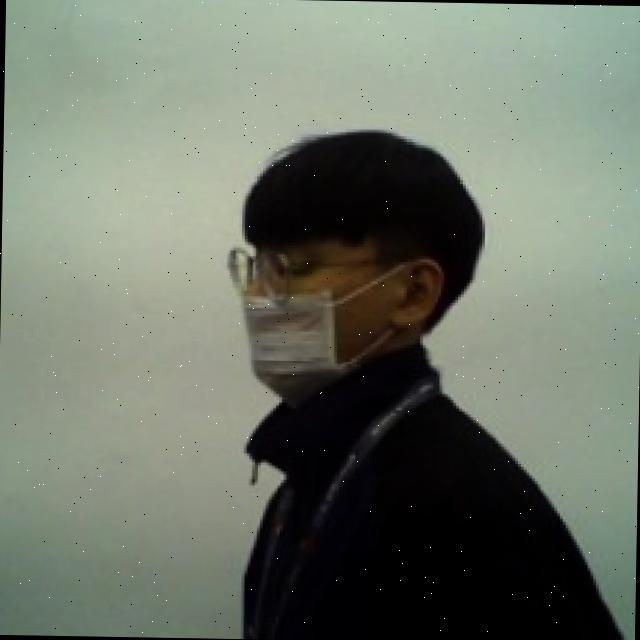mask: (236, 250, 435, 420)
no_gloves: (236, 115, 490, 322)
